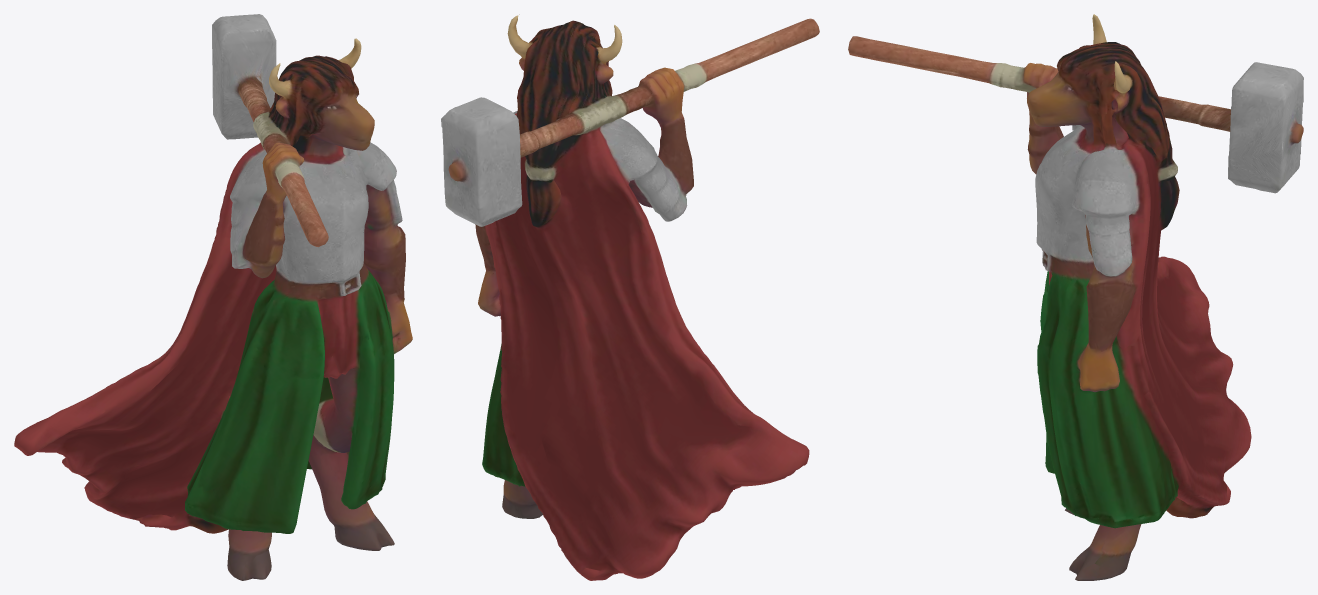
Rendered from MZ42650 - Minotaur Female Cleric.glb.
3 views of the same model, side by side, from view 1: azimuth 30°, elevation 25°; view 2: azimuth 150°, elevation 25°; view 3: azimuth 270°, elevation 25° (orthographic). The views are drawn at different scales.
Visible parts, largest first — view 1: Minotaur Female Cleric_low.001; view 2: Minotaur Female Cleric_low.001; view 3: Minotaur Female Cleric_low.001.
Boxes of the visible parts, x1,y1,x2,y2 form: Minotaur Female Cleric_low.001: (14, 14, 412, 580); Minotaur Female Cleric_low.001: (441, 14, 819, 580); Minotaur Female Cleric_low.001: (848, 14, 1303, 580).
Bounding box in the file's own units: 1.85 × 2.49 × 2.
1 material, 1 textured.
